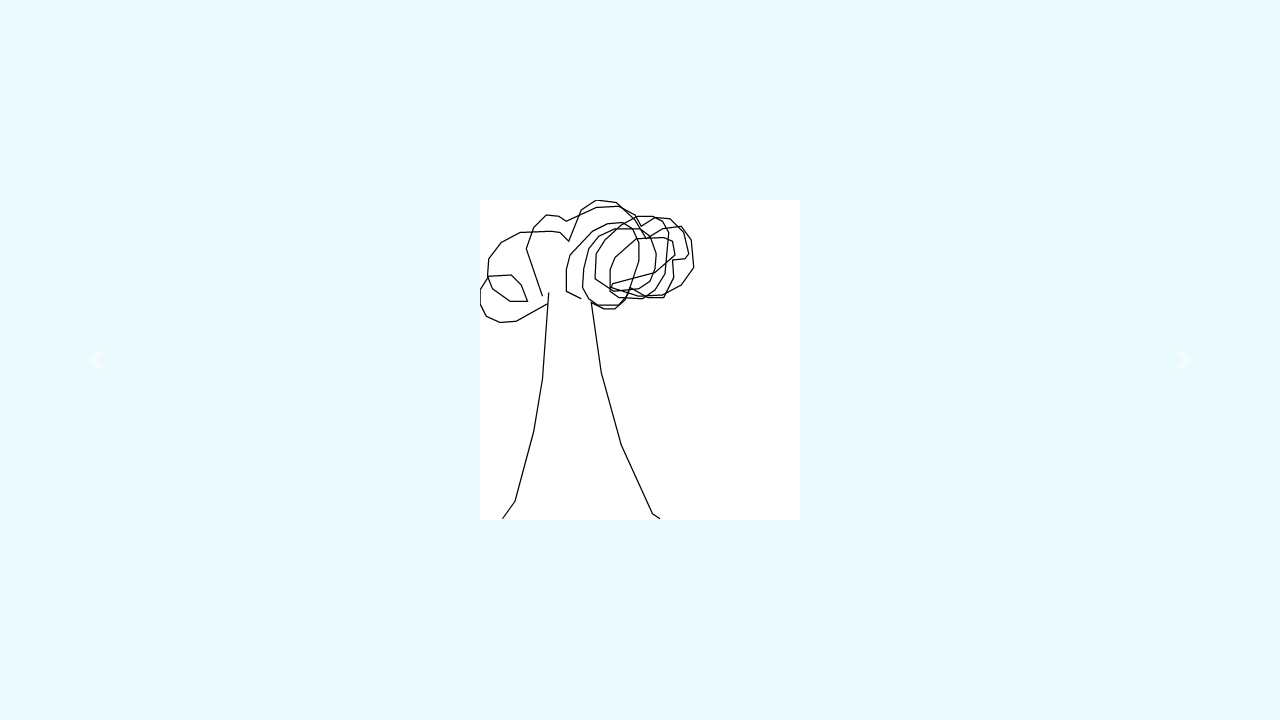tree: (473, 191, 700, 523)
